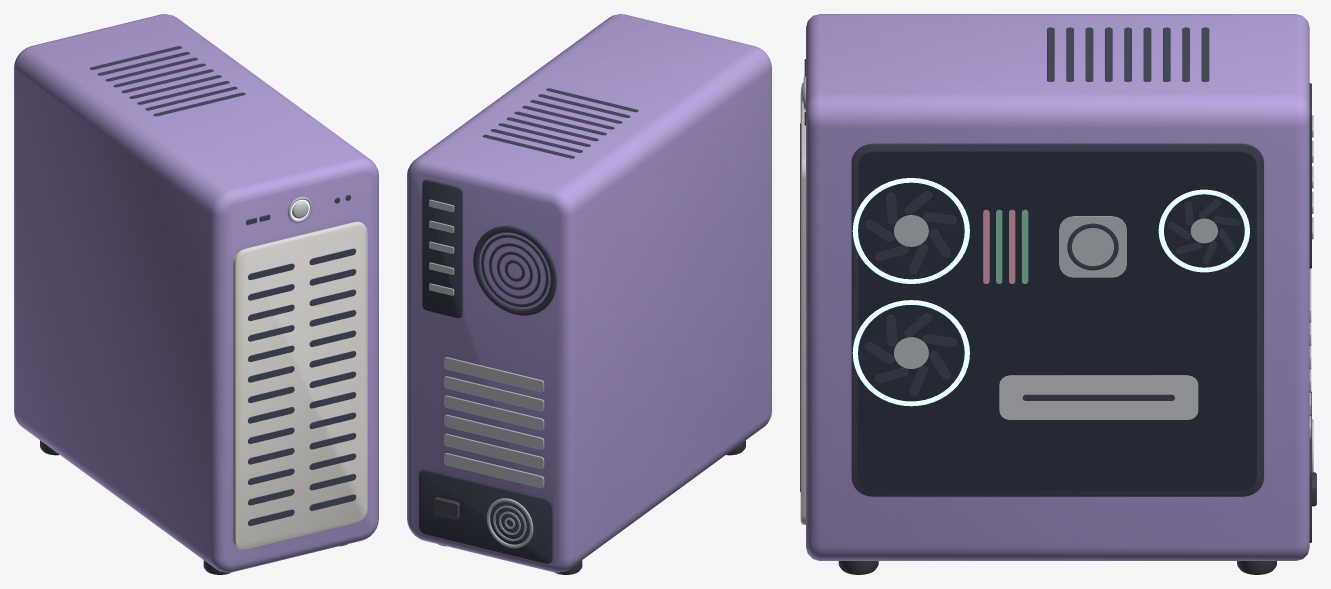
File: desktop-pc.glb
The picture shows the model from 3 angles, left to right: view 1: azimuth 30°, elevation 25°; view 2: azimuth 150°, elevation 25°; view 3: azimuth 270°, elevation 25°; orthographic projection. The views are drawn at different scales.
Visible parts, largest first — view 1: desktop-pc_body; view 2: desktop-pc_body; view 3: desktop-pc_body, desktop-pc_window_glass, desktop-pc_glow_rings.
Boxes of the visible parts, left/top/right/bottom form: desktop-pc_body: left=14, top=14, right=378, bottom=574; desktop-pc_body: left=407, top=14, right=771, bottom=574; desktop-pc_body: left=800, top=14, right=1316, bottom=574; desktop-pc_window_glass: left=858, top=151, right=1256, bottom=490; desktop-pc_glow_rings: left=852, top=178, right=1249, bottom=406.
Size of the model in its own units: 0.2028 by 0.4504 by 0.4409.
8 materials, 1 textured.
